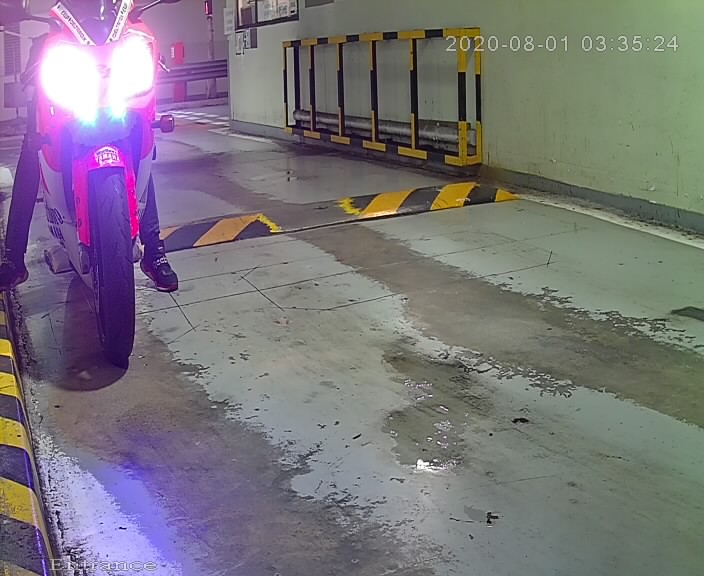motorcycle: (1, 12, 194, 383)
